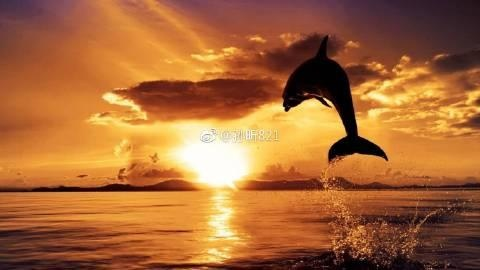fish: (280, 35, 390, 161)
